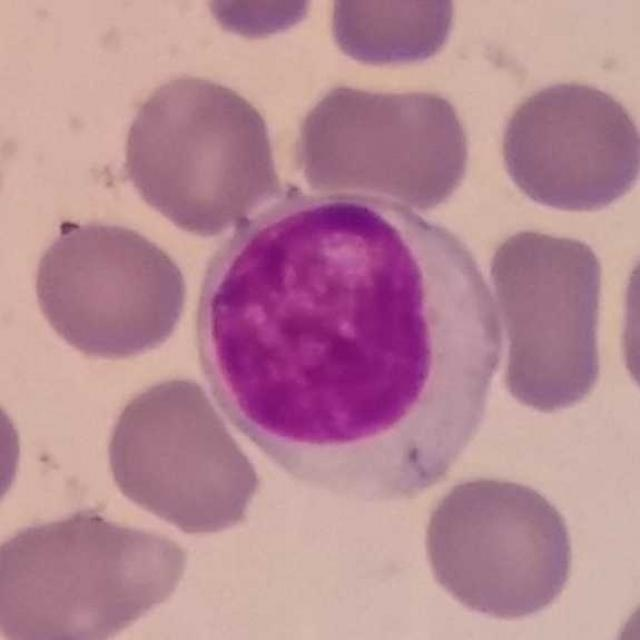Lymphocyte: (188, 188, 510, 501)
RBC: (115, 68, 286, 237), (99, 371, 266, 538), (287, 72, 479, 212), (482, 220, 615, 418), (0, 503, 193, 639), (416, 468, 582, 626), (25, 211, 194, 364), (492, 74, 640, 218), (319, 0, 464, 73), (607, 223, 640, 417), (190, 0, 332, 45), (0, 380, 28, 534), (600, 577, 640, 640)
